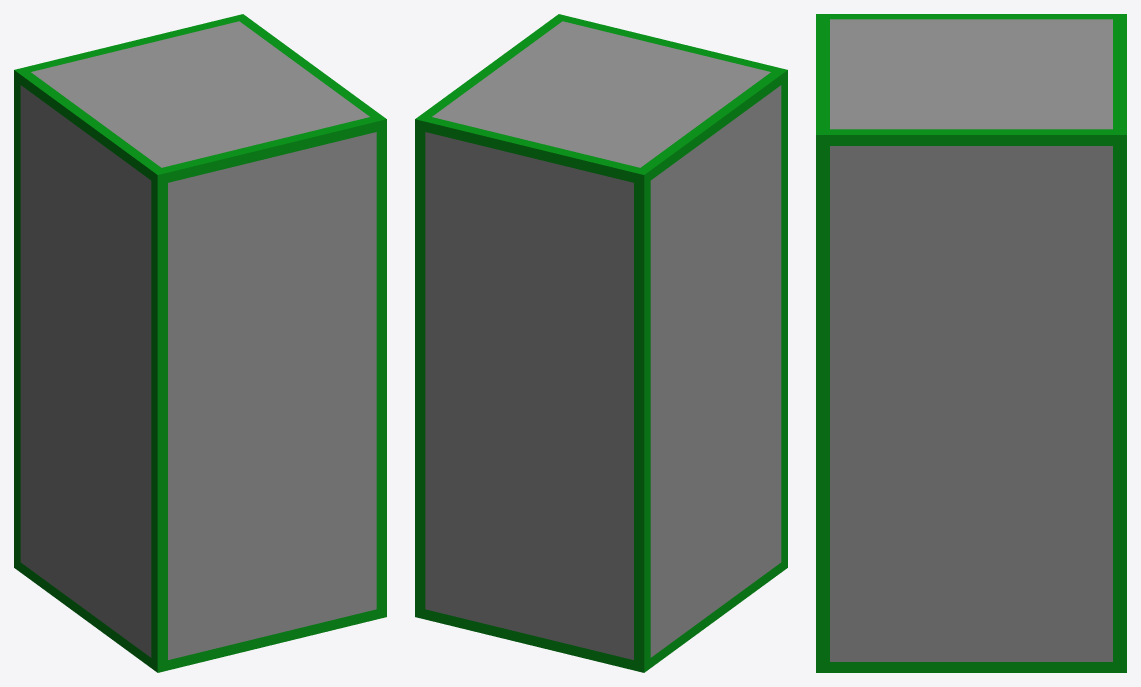
File: mesh_building_01.FBX
3 views of the same model, side by side, from view 1: azimuth 30°, elevation 25°; view 2: azimuth 150°, elevation 25°; view 3: azimuth 270°, elevation 25° (orthographic). The views are drawn at different scales.
Parts seen in each view (by area): view 1: Box001; view 2: Box001; view 3: Box001.
Part boxes in pixels (x1,y1,x2,y2): Box001: [14, 14, 386, 672]; Box001: [415, 14, 787, 672]; Box001: [816, 14, 1126, 672].
Bounding box in the file's own units: 44.24 × 91.86 × 48.07.
